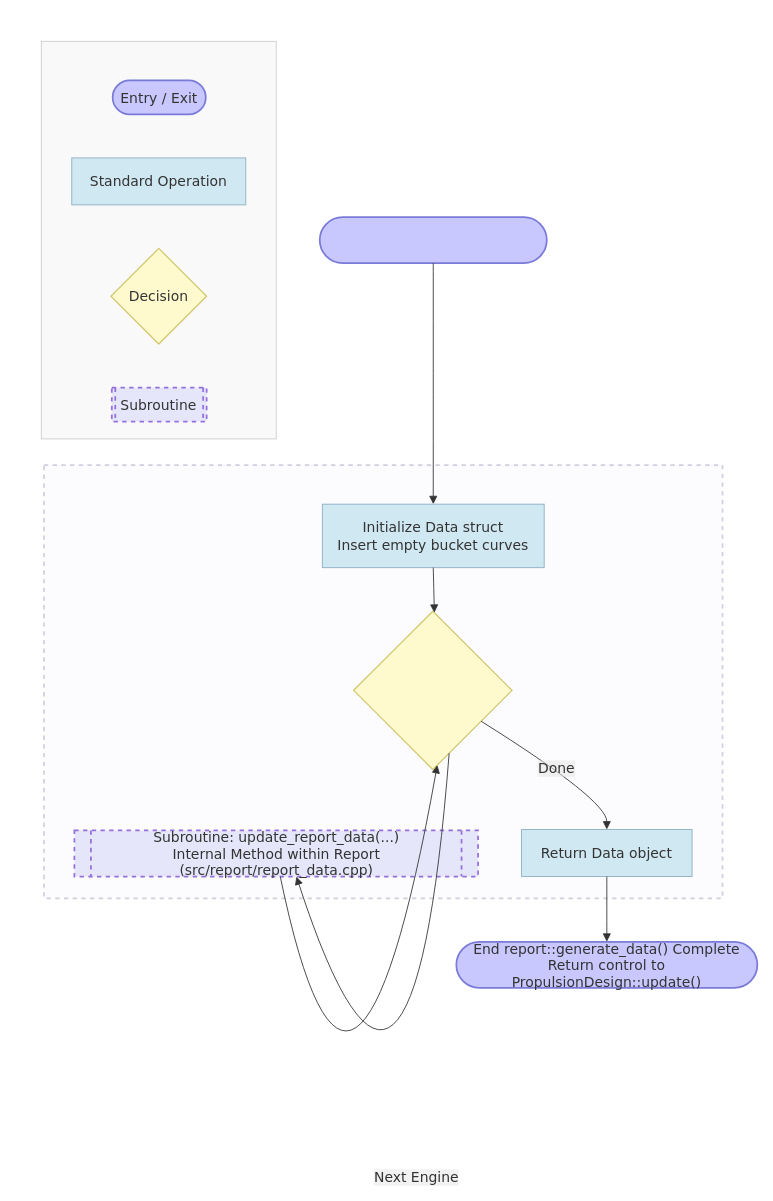
Some shapes in this 773 by 1201 pixel diagram are drawn without their labels. The shapes that lost their labels are listed below. From the top down, each one's box as (x1, y1, x2, y2) in pixels, then its label:
(40, 40, 276, 439): Diagram Legend
(318, 216, 547, 264): Start report::generate_data() File: src/report/report_data.cpp
(43, 464, 723, 899): Report Data Generation Workflow
(353, 610, 512, 770): Iterate over all propulsions
